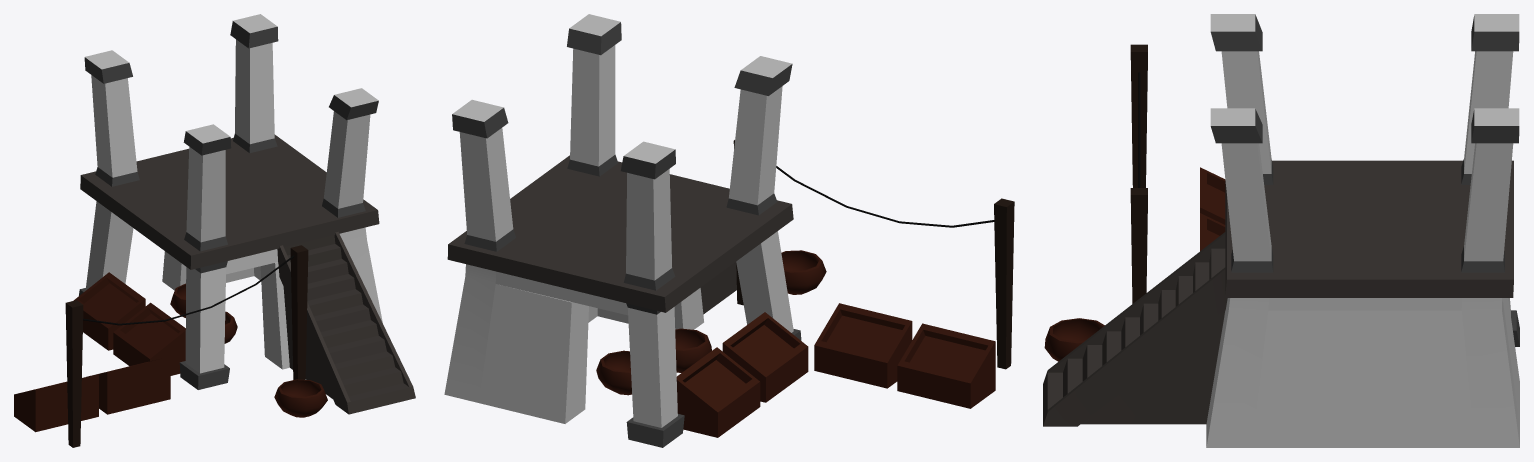
Rendered from Market_Stage_4.FBX.
The picture shows the model from 3 angles, left to right: view 1: azimuth 30°, elevation 25°; view 2: azimuth 150°, elevation 25°; view 3: azimuth 270°, elevation 25°; orthographic projection. The views are drawn at different scales.
Visible parts, largest first — view 1: Market_Stage_4; view 2: Market_Stage_4; view 3: Market_Stage_4.
Boxes of the visible parts, bbox=[...] form: Market_Stage_4: bbox=[14, 14, 415, 447]; Market_Stage_4: bbox=[444, 14, 1014, 447]; Market_Stage_4: bbox=[1043, 14, 1519, 447].
Size of what is drawn, in the model's own units: 216 by 142 by 194.
